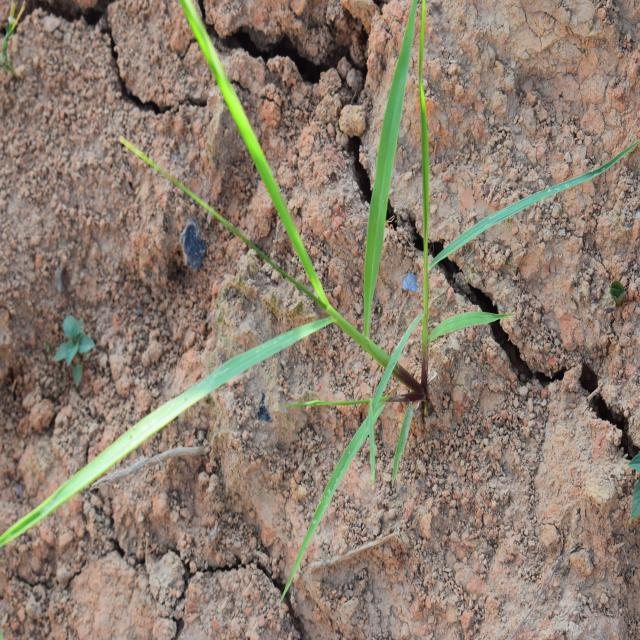green_foxtail: (117, 78, 474, 464)
